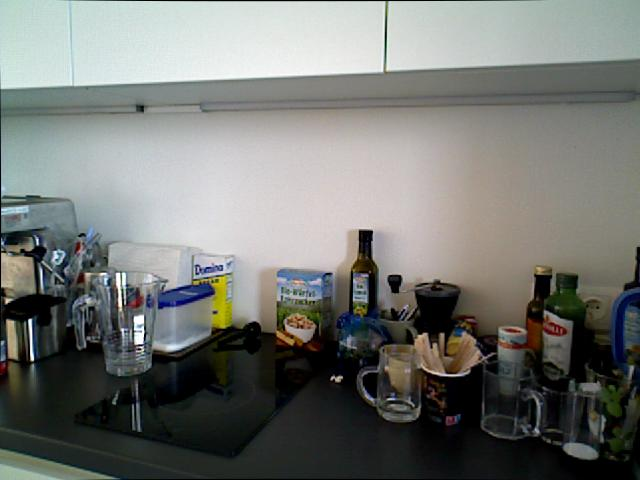bench: (541, 271, 586, 386), (348, 228, 379, 352), (610, 245, 639, 370), (524, 265, 552, 368)
bird: (278, 312, 327, 350)
handbag: (71, 270, 168, 377), (356, 343, 422, 423), (479, 359, 544, 440), (415, 347, 474, 430), (537, 372, 586, 448), (561, 380, 604, 459)
